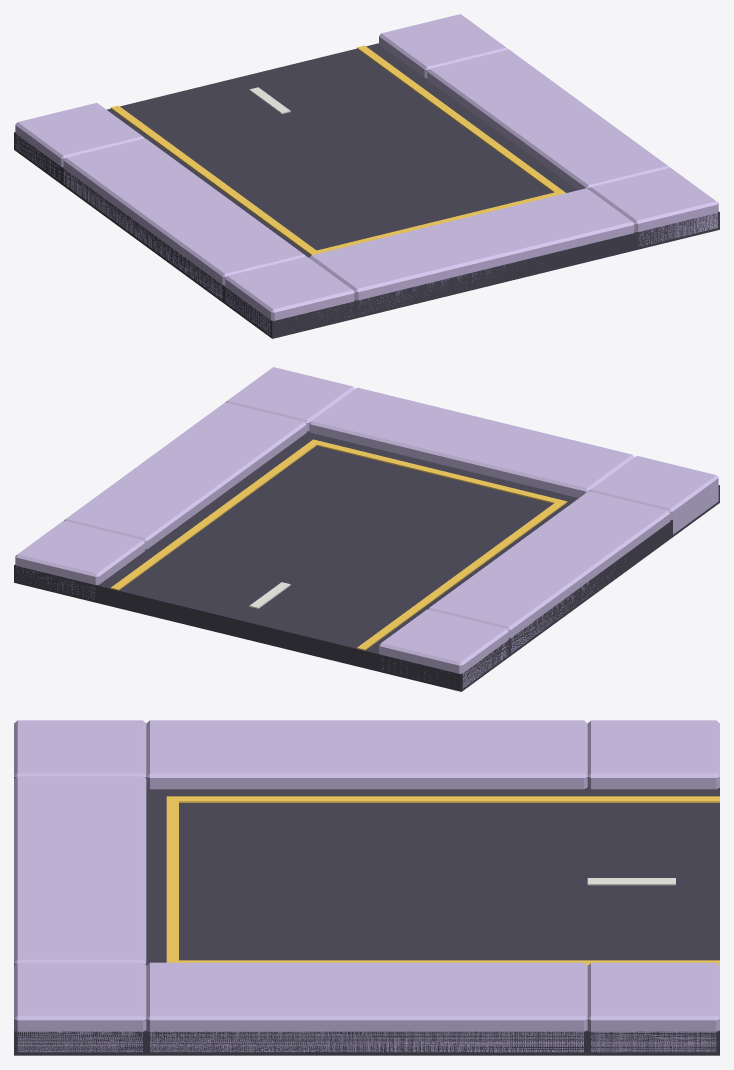
File: road_end.glb
The picture shows the model from 3 angles, top to bottom: view 1: azimuth 30°, elevation 25°; view 2: azimuth 150°, elevation 25°; view 3: azimuth 270°, elevation 25°; orthographic projection. The views are drawn at different scales.
Parts seen in each view (by area): view 1: road_end; view 2: road_end; view 3: road_end.
Boxes of the visible parts, x1,y1,x2,y2 form: road_end: (14, 14, 719, 338); road_end: (14, 367, 719, 691); road_end: (14, 720, 719, 1055).
Size of the model in its own units: 8 by 0.48 by 8.
